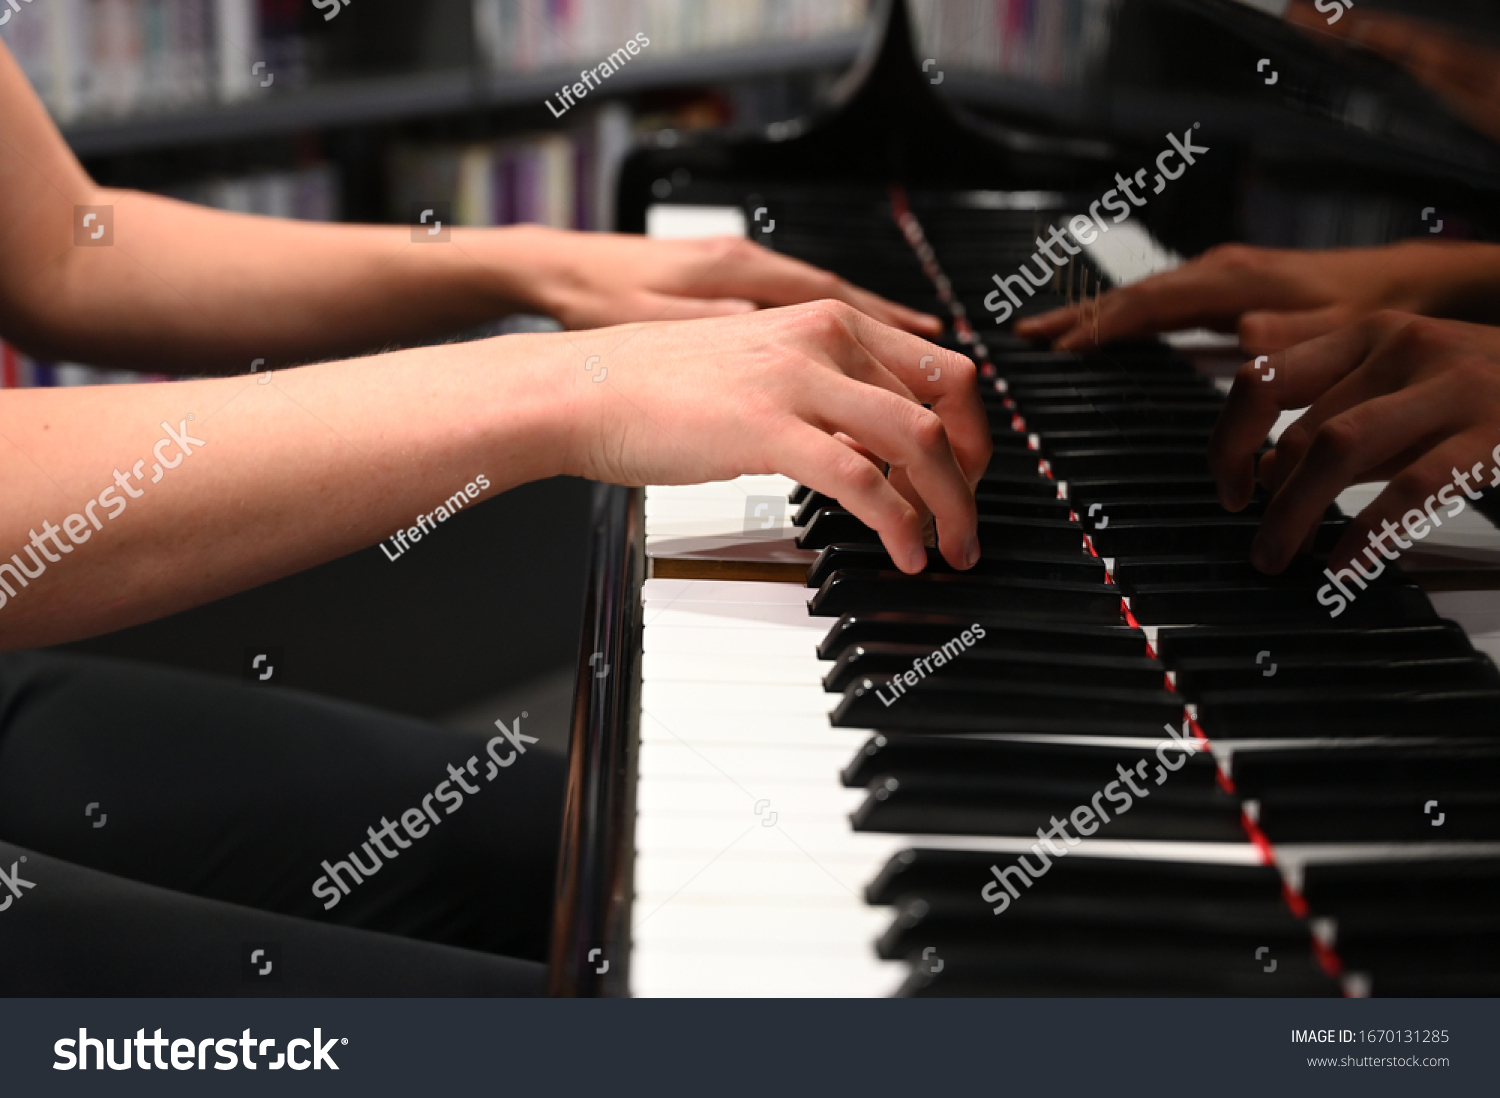Piano: (408, 20, 1500, 984)
